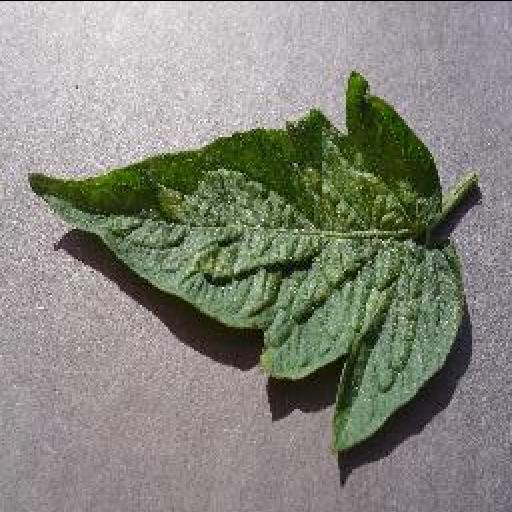disease_tomato: (24, 68, 466, 456)
